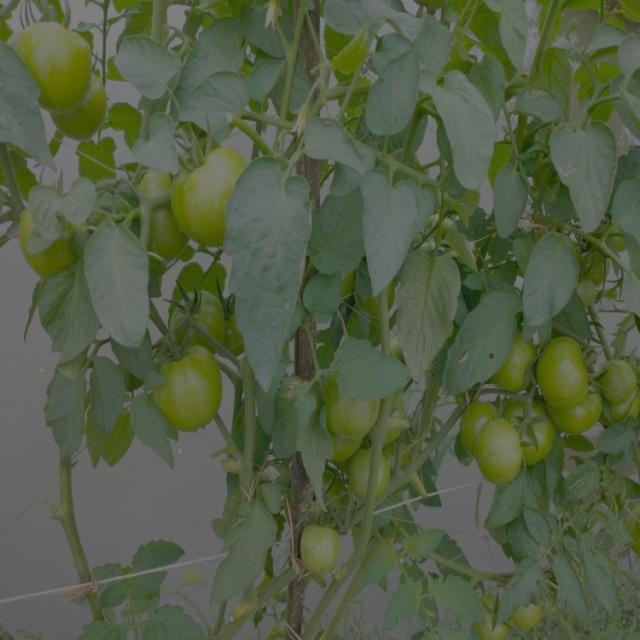tomato: (173, 137, 259, 246), (8, 7, 95, 111), (145, 348, 237, 438), (15, 197, 84, 285), (542, 345, 603, 441), (319, 354, 377, 442), (289, 516, 358, 587), (169, 282, 233, 344), (345, 451, 404, 508), (476, 437, 540, 487), (516, 412, 563, 475), (608, 341, 640, 427), (498, 334, 534, 399), (511, 591, 553, 635), (63, 115, 116, 148), (458, 405, 503, 435), (477, 609, 516, 638)
